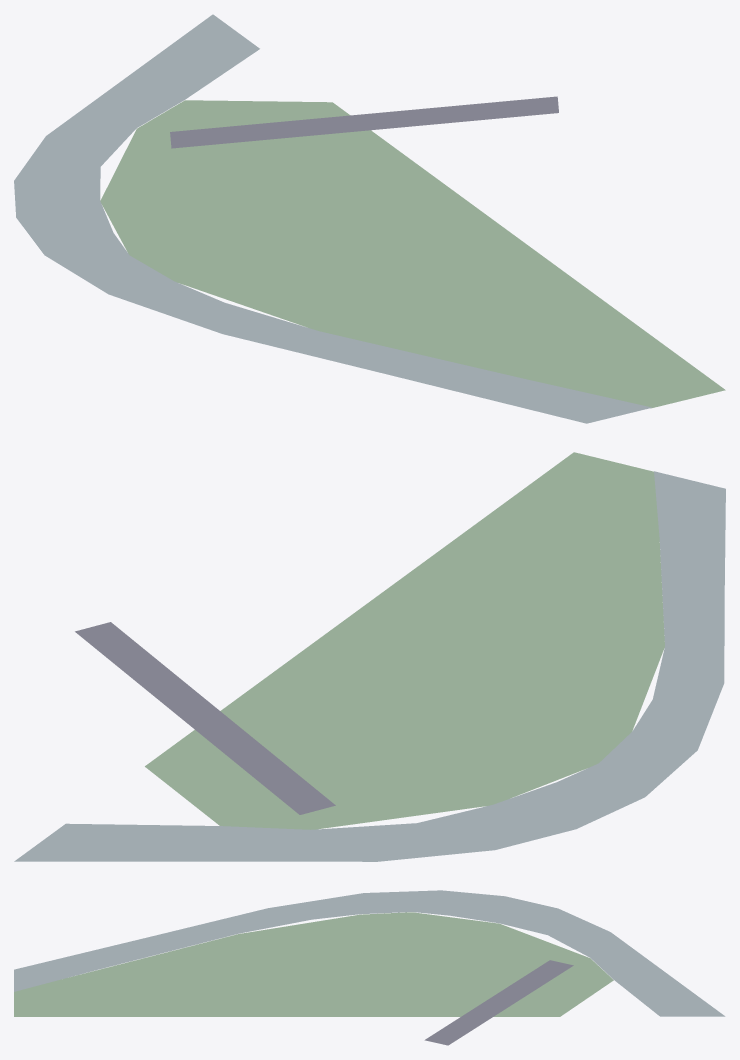
The model's file is 97_96_mid.glb.
The picture shows the model from 3 angles, top to bottom: view 1: azimuth 30°, elevation 25°; view 2: azimuth 150°, elevation 25°; view 3: azimuth 270°, elevation 25°; orthographic projection. The views are drawn at different scales.
Bounding box in the file's own units: 137 × 7.52 × 236.
